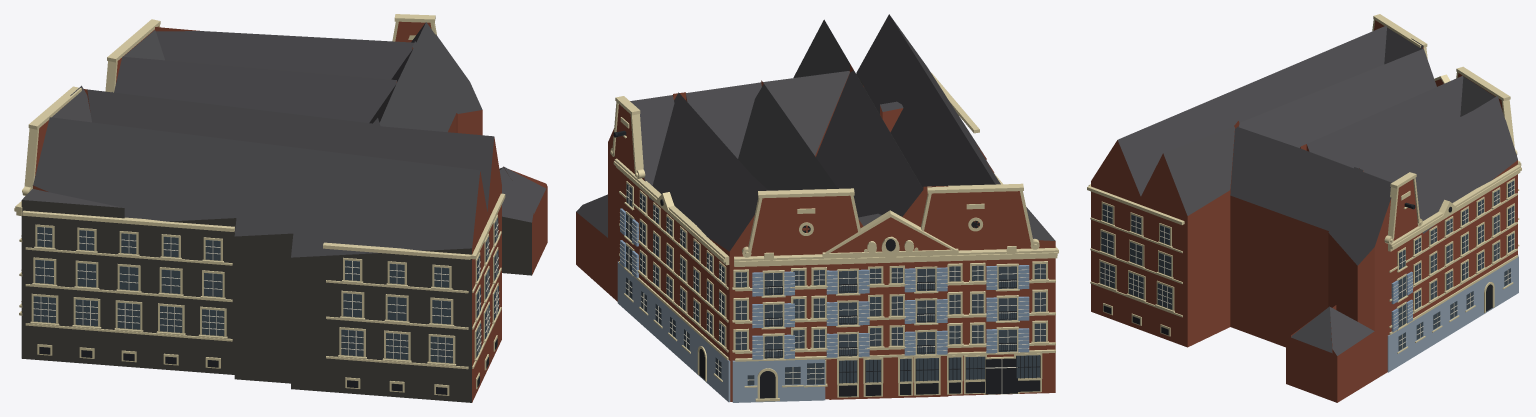
File: west-indisch-pakhuis.glb
3 views of the same model, side by side, from view 1: azimuth 30°, elevation 25°; view 2: azimuth 150°, elevation 25°; view 3: azimuth 270°, elevation 25° (orthographic). The views are drawn at different scales.
Visible parts, largest first — view 1: west-indisch-pakhuis; view 2: west-indisch-pakhuis; view 3: west-indisch-pakhuis.
Boxes of the visible parts, x1,y1,x2,y2 form: west-indisch-pakhuis: (14,14,547,402); west-indisch-pakhuis: (576,14,1058,402); west-indisch-pakhuis: (1087,14,1521,402).
Size of the model in its own units: 47.58 by 19.57 by 40.92.
